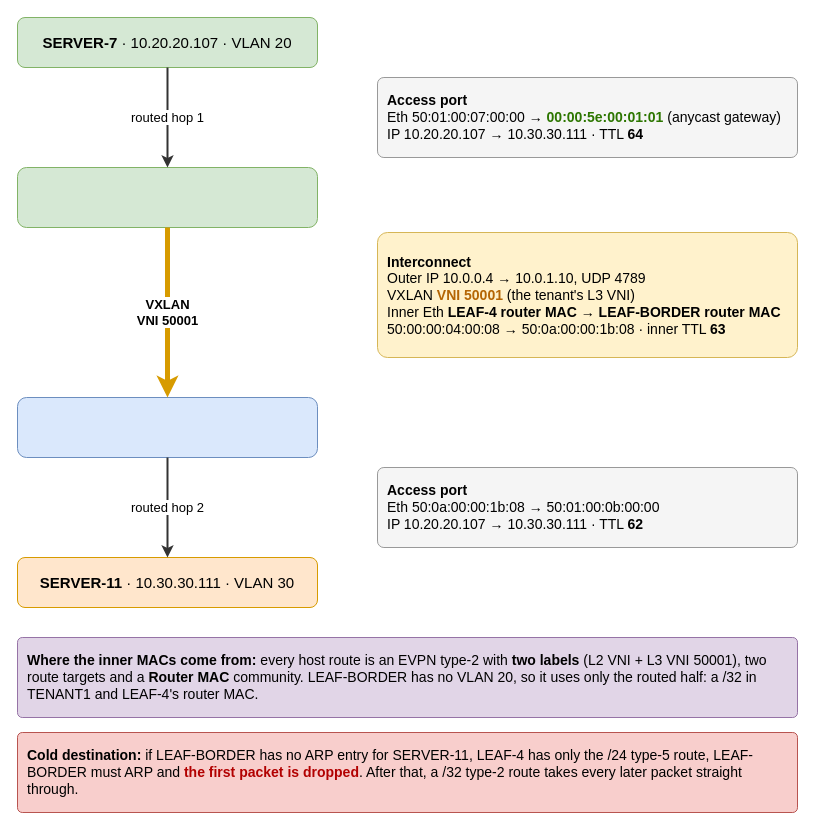
This 815x830 diagram has some shape labels left out. The centre of each missing label's shape, as x and y in pixels:
"LEAF-4 (Cumulus) TENANT1: 10.30.30.111/32 via 10.0.1.10" belongs at point 167,197.
"LEAF-BORDER (NX-OS) TENANT1: 10.20.20.107/32 via 10.0.0.4" belongs at point 167,427.
